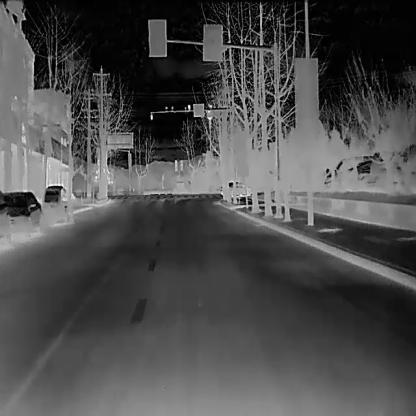car: (2, 188, 44, 239), (40, 184, 70, 225), (221, 181, 251, 199)
